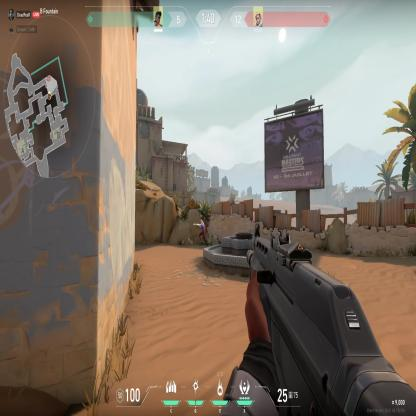enemy: (196, 218, 208, 247)
